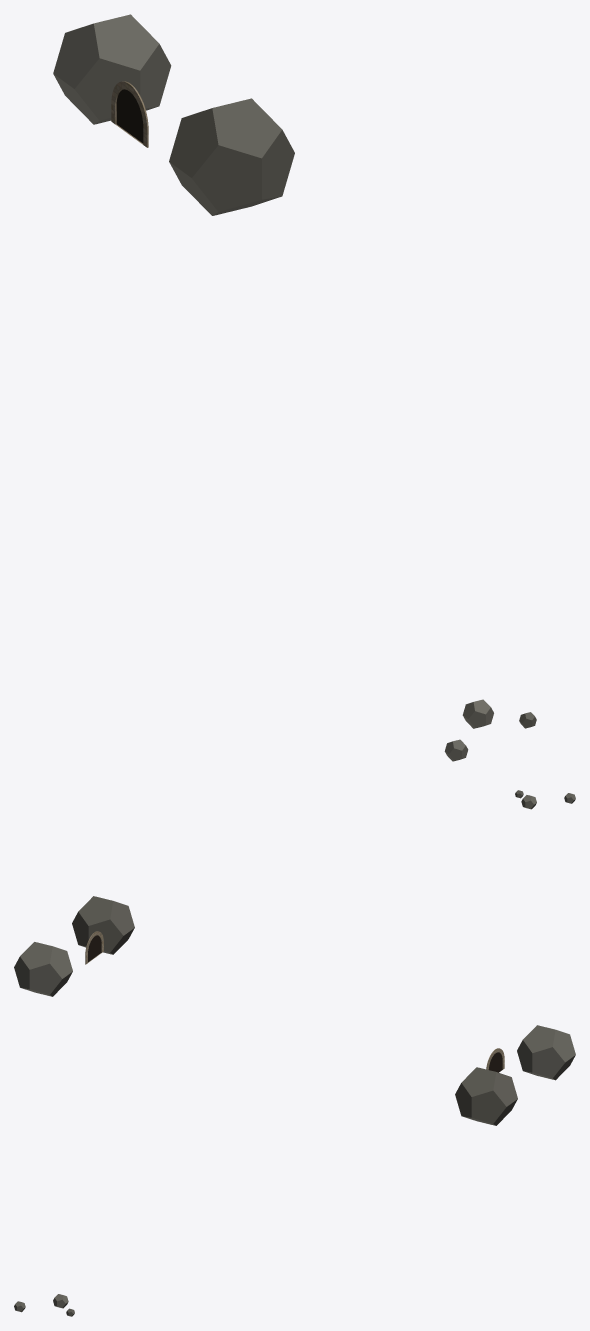
Rendered from bosque.glb.
3 renders of one model, top to bottom at view 1: azimuth 30°, elevation 25°; view 2: azimuth 150°, elevation 25°; view 3: azimuth 330°, elevation 25°, orthographic. The views are drawn at different scales.
Parts seen in each view (by area): view 1: bosque-0; view 2: bosque-0; view 3: bosque-0.
Part boxes in pixels (bbox=[...]): bosque-0: bbox=[53, 14, 536, 761]; bosque-0: bbox=[14, 790, 575, 996]; bosque-0: bbox=[14, 1025, 575, 1316].
Size of the model in its own units: 24.05 by 8.23 by 73.36.
Materials: 2 (1 with a texture image).
